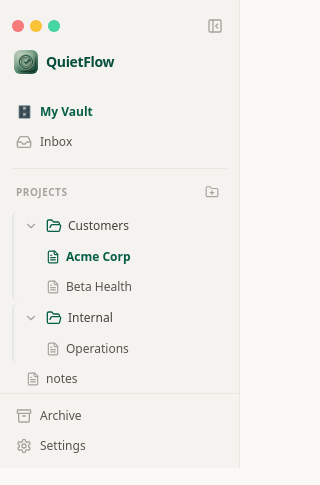
it: Sidebar Component › collapses and expands folders on click
expect the text "Acme Corp" is shown: met, box [66,248,131,265]
# Click on Customers folder header to collapse
Click the text "Customers" at point(98, 226), box [68,217,129,234]
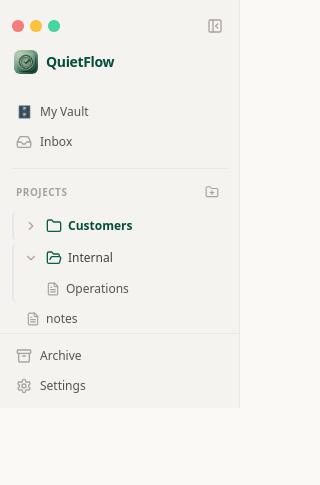
expect the text "Acme Corp" is gone: met
# Click again to expand
Click the text "Customers" at point(100, 226), box [68,217,132,234]
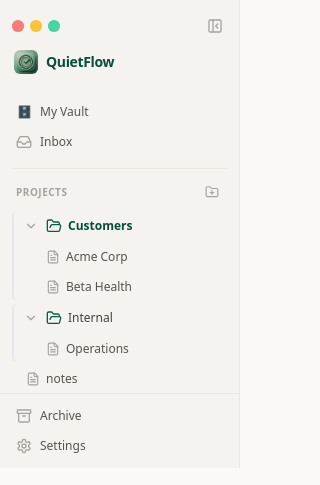
expect the text "Acme Corp" is shown: met, box [66,248,128,265]
